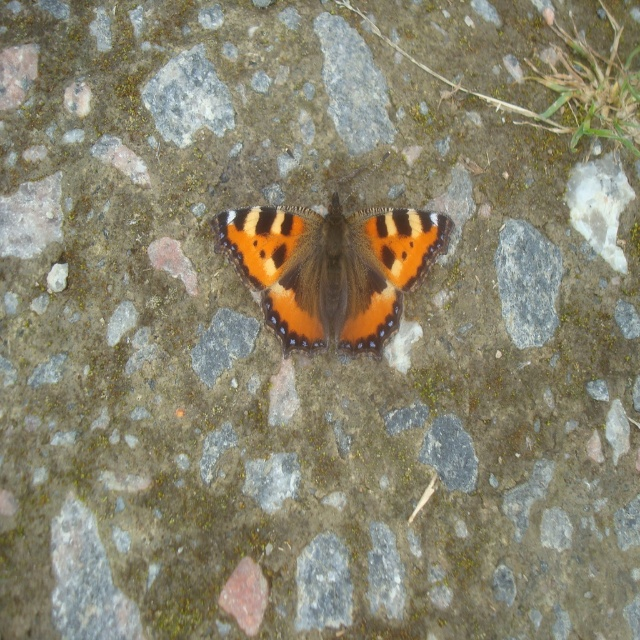Butterfly: (234, 170, 452, 367)
